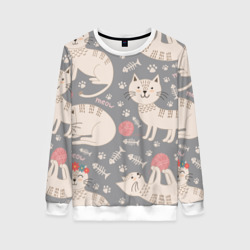cat: (112, 161, 175, 203), (67, 32, 111, 88), (127, 73, 170, 110), (71, 164, 108, 206), (54, 65, 70, 134), (178, 162, 202, 200)
